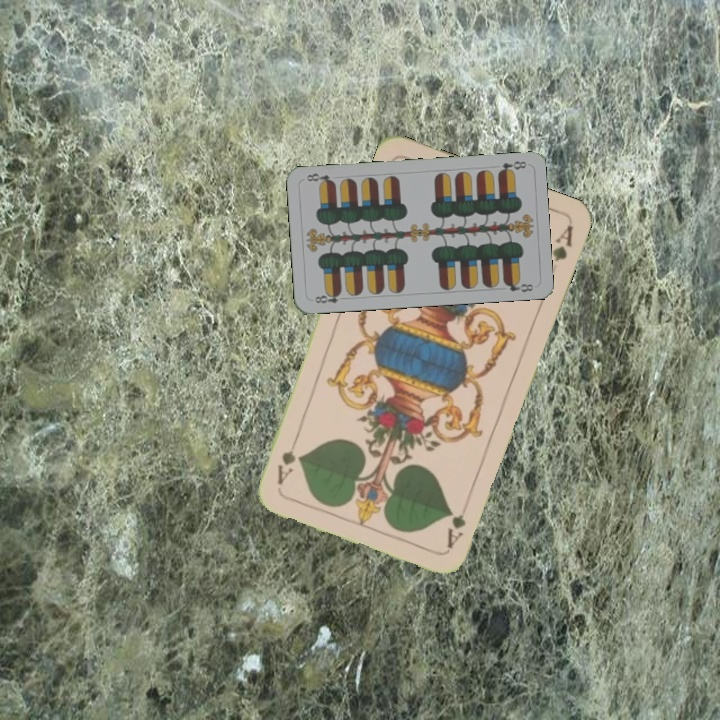E8: (311, 288, 349, 306), (494, 157, 529, 176)
GA: (443, 510, 469, 551)
